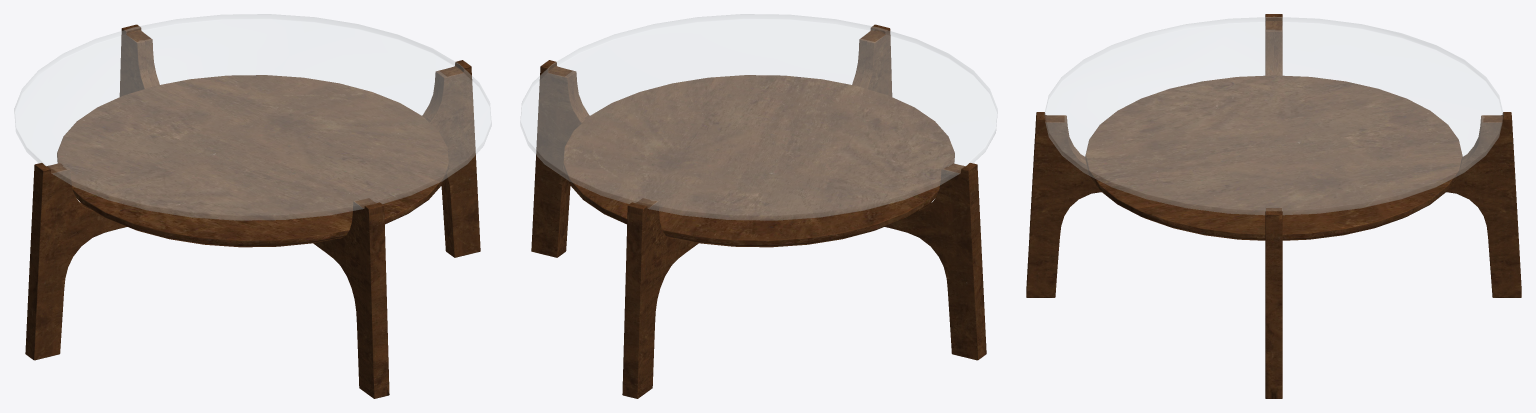
File: 4db96473-72ed-4947-80d8-af6dc1c4dee8.glb
3 views of the same model, side by side, from view 1: azimuth 30°, elevation 25°; view 2: azimuth 150°, elevation 25°; view 3: azimuth 270°, elevation 25° (orthographic). The views are drawn at different scales.
Parts seen in each view (by area): view 1: glass, leg_1; view 2: glass, leg_1; view 3: glass, leg_1.
Boxes of the visible parts, left/top/right/bottom form: glass: left=14, top=14, right=491, bottom=220; leg_1: left=25, top=24, right=480, bottom=398; glass: left=520, top=14, right=997, bottom=220; leg_1: left=531, top=24, right=986, bottom=398; glass: left=1044, top=17, right=1503, bottom=214; leg_1: left=1026, top=14, right=1521, bottom=398.
Bounding box in the file's own units: 1.03 × 0.4135 × 1.03.
2 materials, 1 textured.
